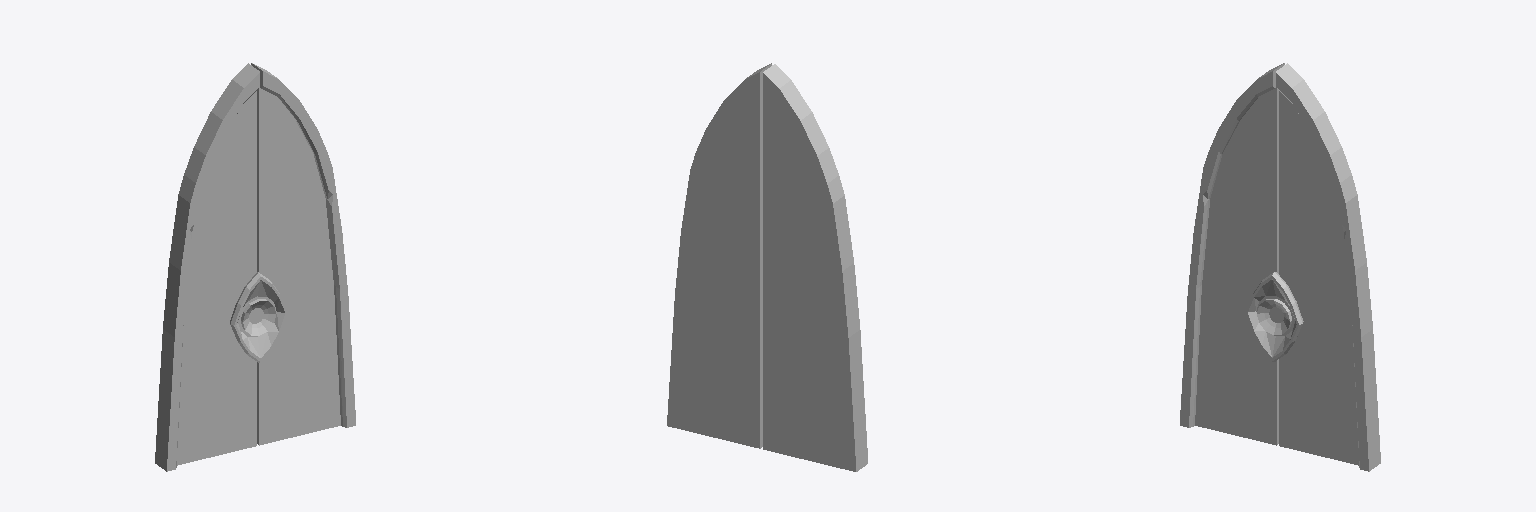
Rendered from TempleDoor.obj.
3 views of the same model, side by side, from view 1: azimuth 30°, elevation 25°; view 2: azimuth 150°, elevation 25°; view 3: azimuth 330°, elevation 25° (orthographic).
Parts seen in each view (by area): view 1: TempleDoor; view 2: TempleDoor; view 3: TempleDoor.
Part boxes in pixels (left/top/right/bottom): TempleDoor: left=155, top=63, right=355, bottom=471; TempleDoor: left=667, top=63, right=867, bottom=471; TempleDoor: left=1180, top=63, right=1380, bottom=471.
Size of the model in its own units: 396 by 752 by 45.83.